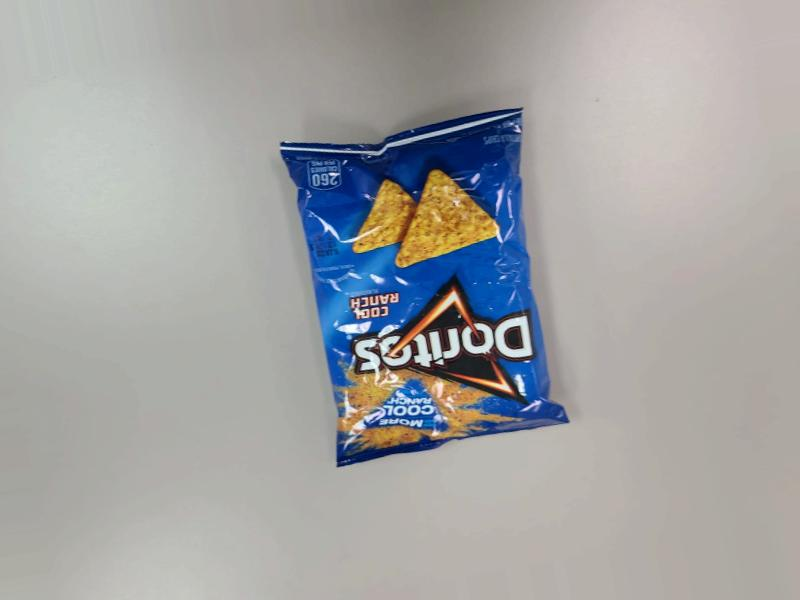doritos: (298, 118, 557, 498)
